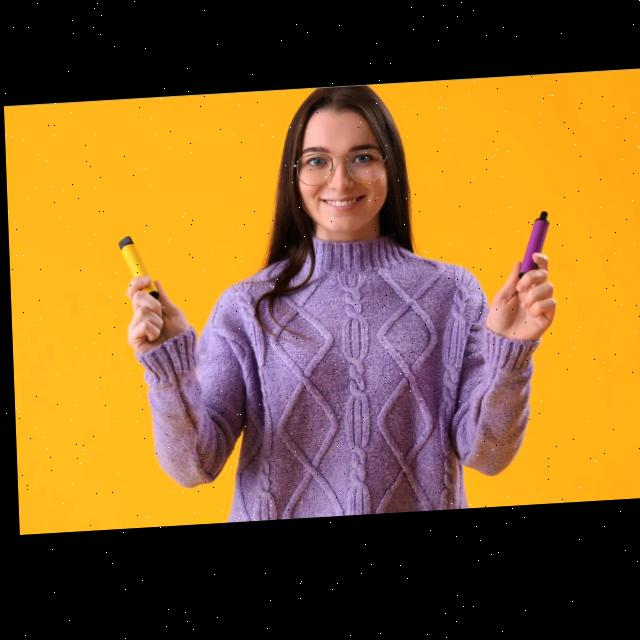vape: (117, 235, 157, 301), (515, 216, 549, 285)
